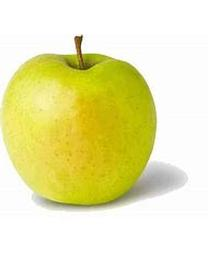apple: (0, 35, 156, 205)
